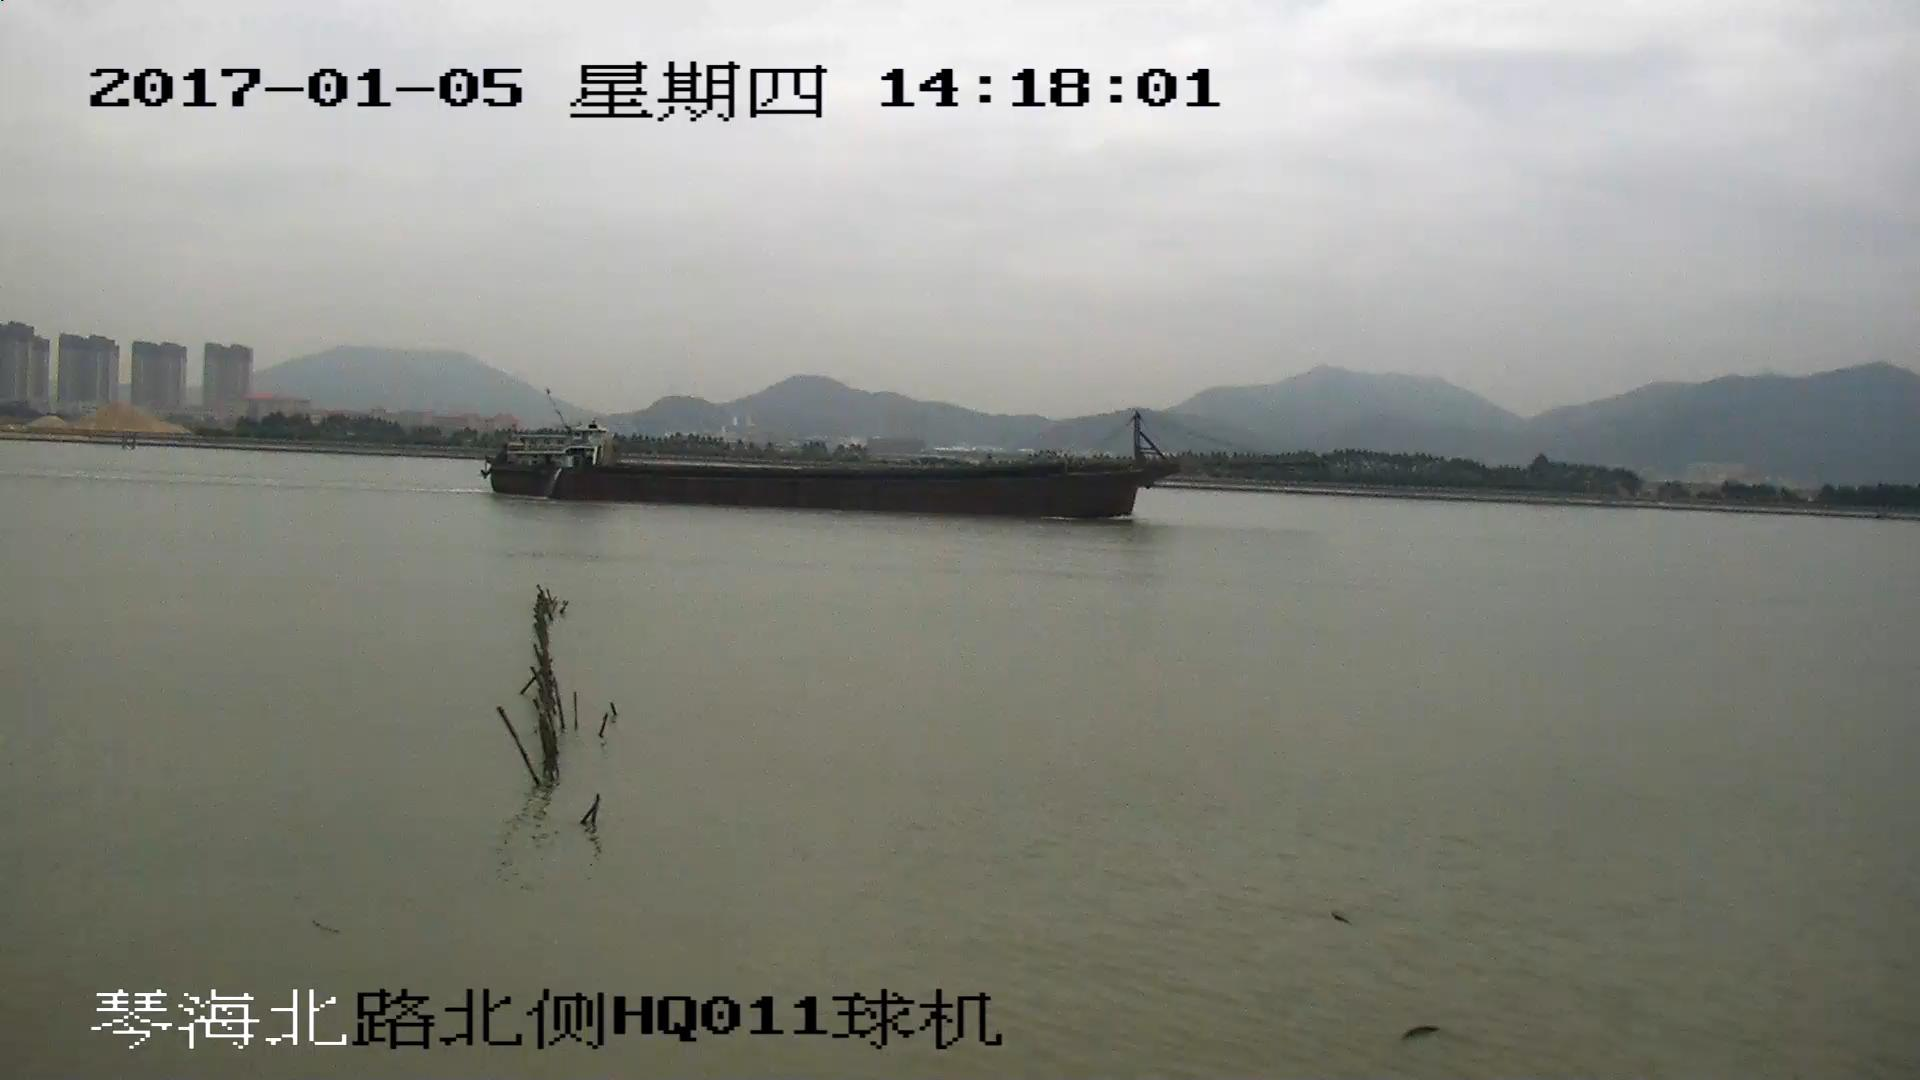Ship: (480, 404, 1271, 522)
